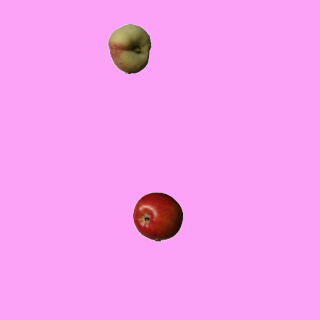Apple Braeburn: (132, 191, 182, 241)
Peach Flat: (104, 23, 154, 73)
